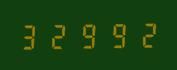nine: (102, 19, 129, 49), (74, 20, 101, 49)
three: (18, 21, 45, 50)
two: (46, 20, 73, 50), (130, 19, 157, 48)
